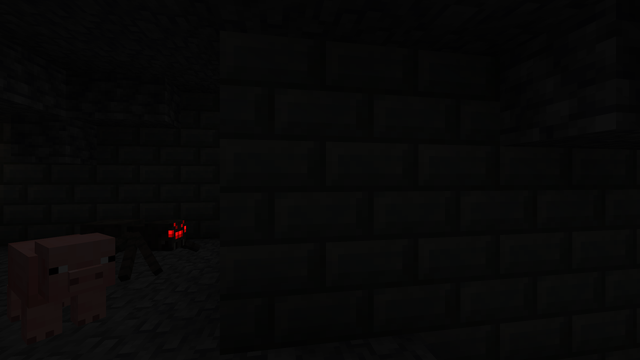araignees: (74, 211, 193, 274)
cochons: (12, 232, 122, 341)
